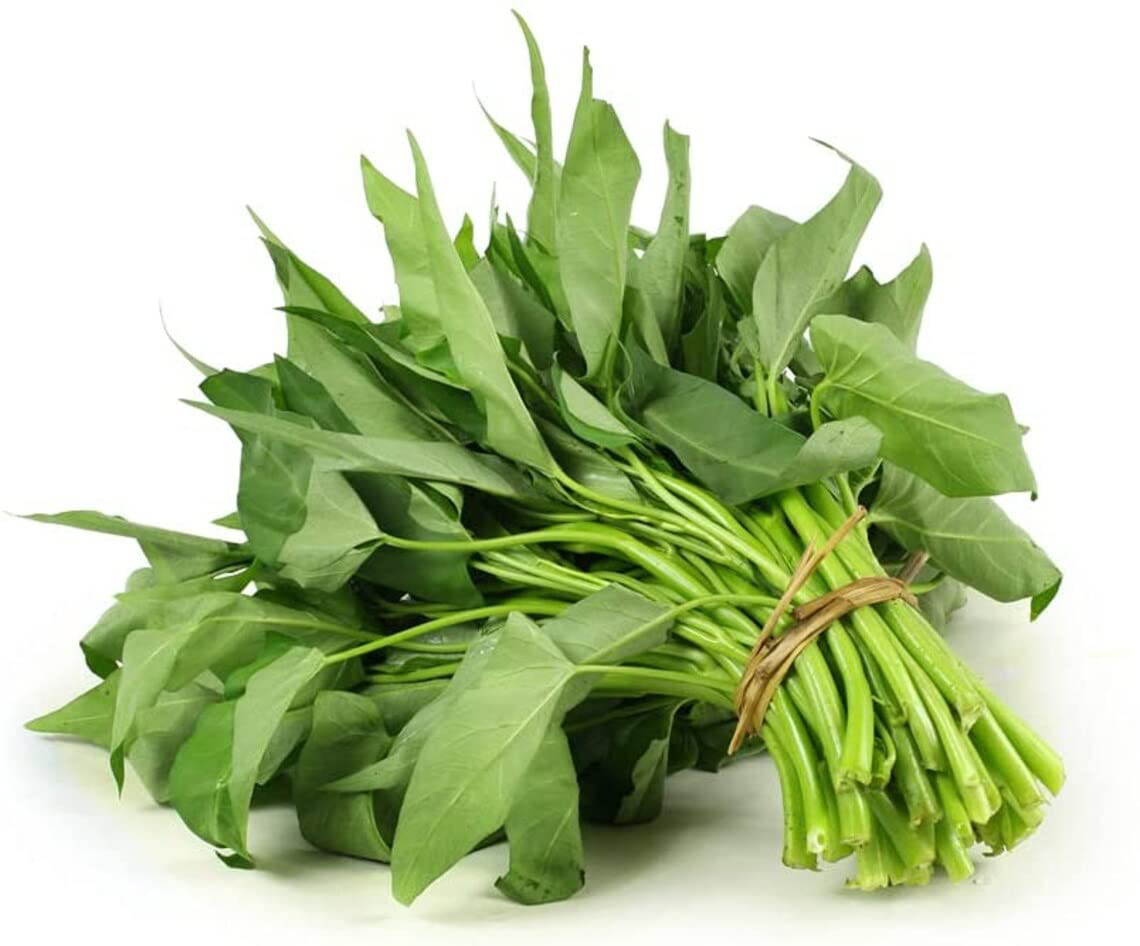Kangkung: (86, 62, 1072, 915)
